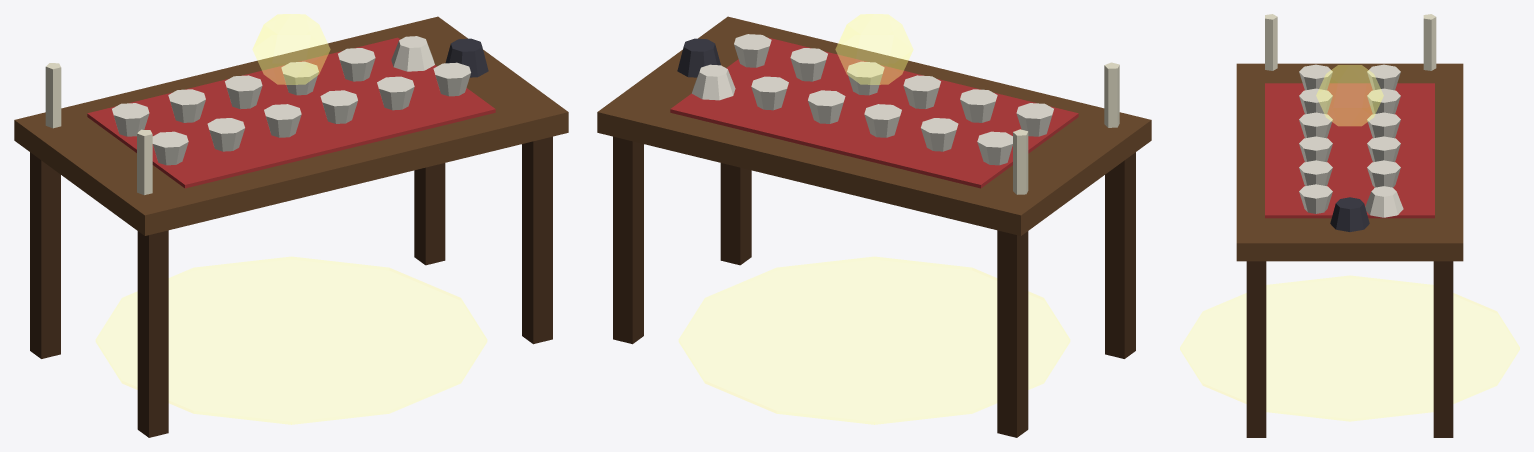
The model's file is prop_gut_table.glb.
3 views of the same model, side by side, from view 1: azimuth 30°, elevation 25°; view 2: azimuth 150°, elevation 25°; view 3: azimuth 270°, elevation 25° (orthographic). The views are drawn at different scales.
Parts seen in each view (by area): view 1: prop_gut_table, Glow; view 2: prop_gut_table, Glow; view 3: prop_gut_table, Glow.
Part boxes in pixels (x1,y1,x2,y2): prop_gut_table: (14,16,568,437); Glow: (96,14,486,424); prop_gut_table: (597,16,1151,437); Glow: (679,14,1069,424); prop_gut_table: (1236,14,1463,437); Glow: (1180,65,1519,421).
Size of the model in its own units: 1.5 by 1.12 by 1.2.
